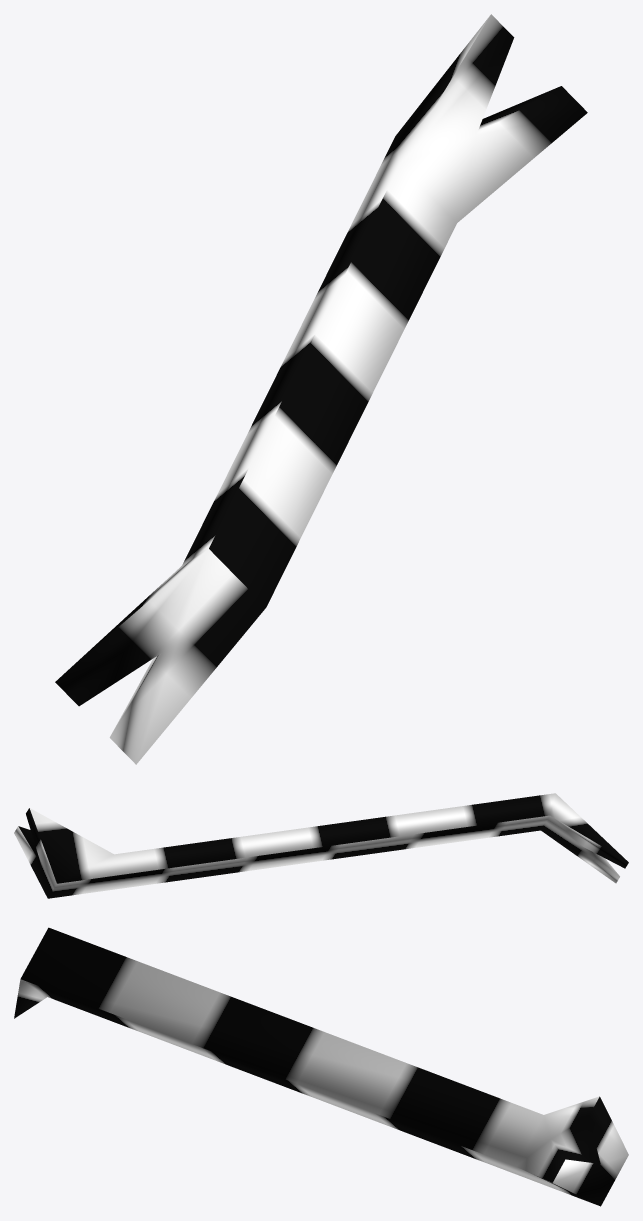
Rendered from initqi36.dae.
The picture shows the model from 3 angles, top to bottom: view 1: azimuth 30°, elevation 25°; view 2: azimuth 150°, elevation 25°; view 3: azimuth 270°, elevation 25°; orthographic projection. The views are drawn at different scales.
Parts seen in each view (by area): view 1: item; view 2: item; view 3: item.
Boxes of the visible parts, box(x1,y1,x2,y2) form: item: box(55, 14, 587, 764); item: box(14, 793, 628, 898); item: box(14, 927, 628, 1206).
Bounding box in the file's own units: 1.64 × 1.39 × 0.4713.
1 material, 1 textured.
